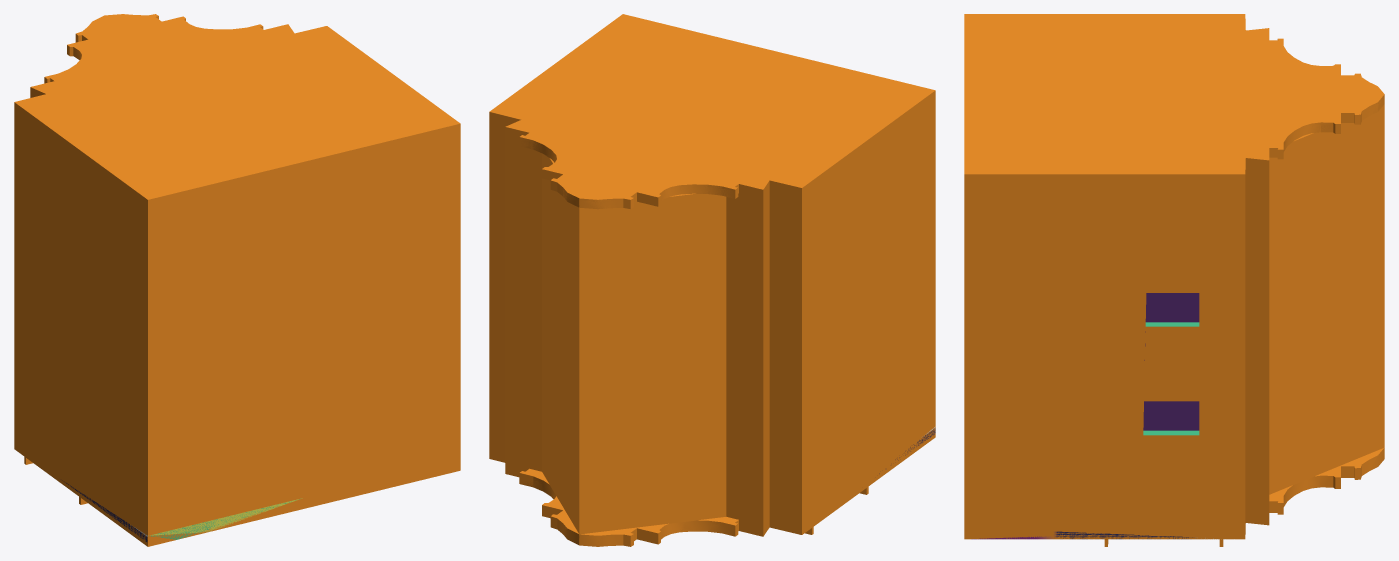
File: Dom Gąski.obj
3 views of the same model, side by side, from view 1: azimuth 30°, elevation 25°; view 2: azimuth 150°, elevation 25°; view 3: azimuth 270°, elevation 25° (orthographic). The views are drawn at different scales.
Visible parts, largest first — view 1: dom_gąski_w_radomiu.2; view 2: dom_gąski_w_radomiu.2; view 3: dom_gąski_w_radomiu.2.
Part boxes in pixels (x1,y1,x2,y2): dom_gąski_w_radomiu.2: [14, 14, 460, 546]; dom_gąski_w_radomiu.2: [489, 14, 935, 546]; dom_gąski_w_radomiu.2: [964, 14, 1384, 546].
Size of the model in its own units: 30.35 by 32.85 by 33.6.
